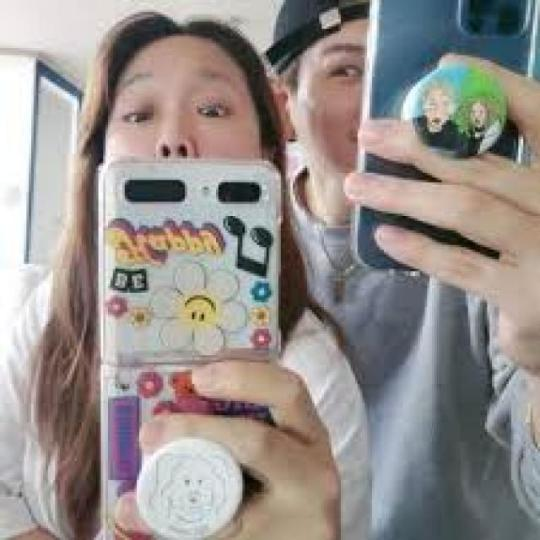phone: (94, 155, 286, 540), (353, 0, 533, 290)
